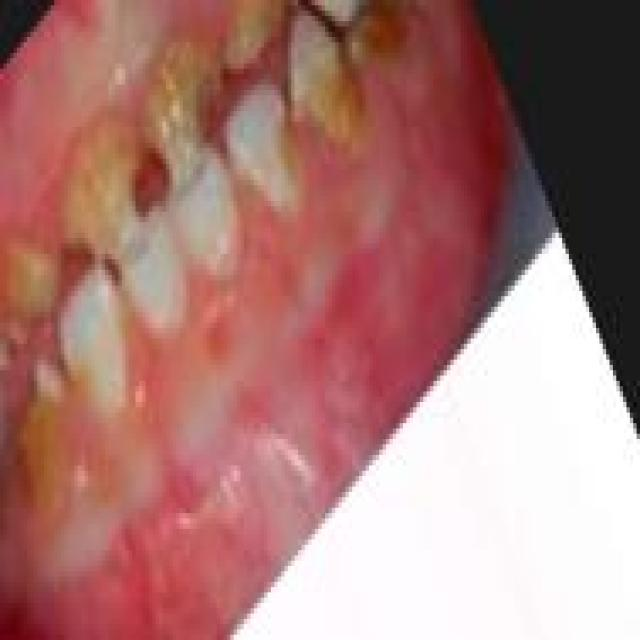caries: (138, 42, 223, 195), (61, 116, 143, 261), (4, 356, 71, 519), (286, 10, 362, 144), (0, 229, 60, 350), (223, 0, 286, 83)
